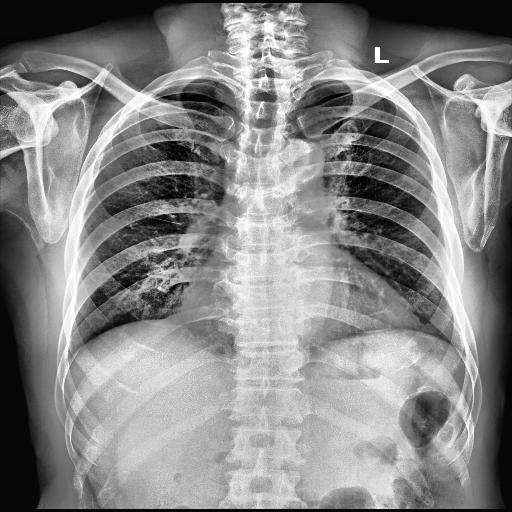0- Aortic enlargement: (264, 139, 330, 213), (266, 138, 326, 188), (282, 139, 324, 179)
3- Cardiomegaly: (180, 277, 420, 338), (177, 280, 418, 330), (183, 288, 419, 333)
